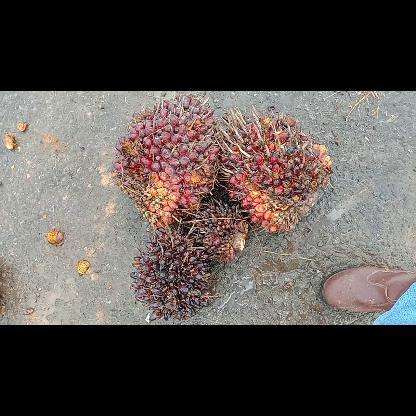TBS abnormal: (127, 224, 215, 322), (186, 197, 252, 262)
TBS masak: (212, 102, 334, 236), (109, 94, 219, 230)
